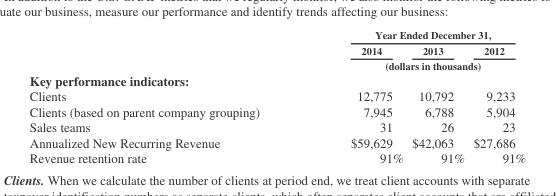table: (28, 28, 525, 165)
table column: (28, 28, 304, 165), (304, 28, 406, 165), (406, 28, 468, 165), (468, 28, 525, 165)
table column header: (28, 28, 525, 72)
table projected row header: (28, 72, 525, 88)
table row: (28, 72, 525, 88), (28, 103, 525, 119), (28, 134, 525, 150), (28, 42, 525, 57), (28, 57, 525, 72), (28, 88, 525, 103), (28, 119, 525, 134), (28, 150, 525, 165), (28, 28, 525, 42)
table spanning cell: (304, 57, 525, 72), (304, 28, 525, 42)
